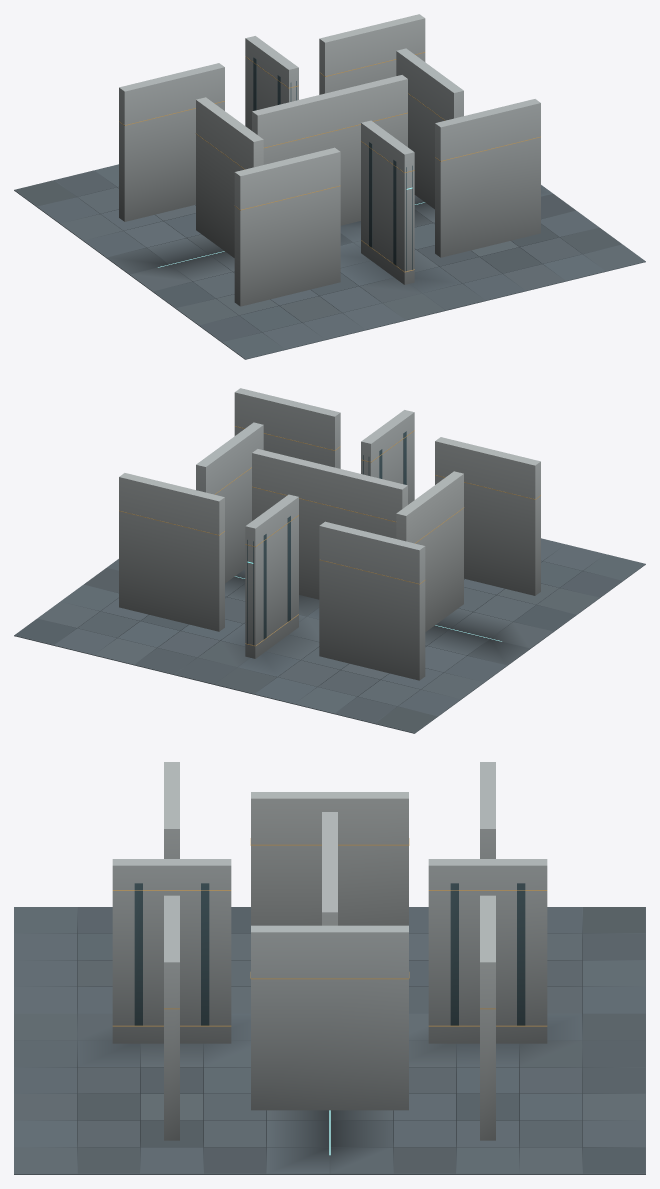
File: 01_world.glb
The picture shows the model from 3 angles, top to bottom: view 1: azimuth 30°, elevation 25°; view 2: azimuth 150°, elevation 25°; view 3: azimuth 270°, elevation 25°; orthographic projection. The views are drawn at different scales.
Parts seen in each view (by area): view 1: world_11_body_nocol, world_01_body_nocol, world_01_floor_noshadow_nocol, world_11_floor_noshadow_nocol, world_00_body_nocol, world_00_floor_noshadow_nocol, world_10_body_nocol, world_11_panel_noshadow_nocol, world_11_trim_noshadow_nocol; view 2: world_11_body_nocol, world_10_body_nocol, world_01_body_nocol, world_00_floor_noshadow_nocol, world_00_body_nocol, world_10_floor_noshadow_nocol, world_01_floor_noshadow_nocol, world_10_panel_noshadow_nocol; view 3: world_11_body_nocol, world_10_floor_noshadow_nocol, world_11_floor_noshadow_nocol, world_10_body_nocol, world_01_body_nocol, world_00_floor_noshadow_nocol, world_01_floor_noshadow_nocol, world_10_panel_noshadow_nocol, world_11_panel_noshadow_nocol, world_00_body_nocol, world_11_trim_noshadow_nocol.
Boxes of the visible parts, x1,y1,x2,y2 form: world_11_body_nocol: (252, 48, 540, 284); world_01_body_nocol: (196, 97, 340, 306); world_01_floor_noshadow_nocol: (130, 234, 445, 359); world_11_floor_noshadow_nocol: (340, 185, 645, 310); world_00_body_nocol: (119, 63, 224, 221); world_00_floor_noshadow_nocol: (14, 164, 223, 274); world_10_body_nocol: (245, 14, 425, 130); world_11_panel_noshadow_nocol: (369, 142, 412, 271); world_11_trim_noshadow_nocol: (264, 93, 540, 272); world_11_body_nocol: (196, 388, 414, 599); world_10_body_nocol: (119, 473, 298, 658); world_01_body_nocol: (396, 437, 540, 631); world_00_floor_noshadow_nocol: (214, 608, 529, 733); world_00_body_nocol: (319, 521, 425, 680); world_10_floor_noshadow_nocol: (14, 559, 319, 684); world_01_floor_noshadow_nocol: (436, 538, 645, 648); world_10_panel_noshadow_nocol: (247, 516, 290, 645); world_11_body_nocol: (112, 812, 408, 1140); world_10_floor_noshadow_nocol: (330, 1040, 645, 1174); world_11_floor_noshadow_nocol: (14, 1040, 329, 1174); world_10_body_nocol: (428, 859, 547, 1140); world_01_body_nocol: (164, 762, 408, 925); world_00_floor_noshadow_nocol: (409, 907, 645, 1040); world_01_floor_noshadow_nocol: (14, 907, 250, 1040); world_10_panel_noshadow_nocol: (450, 883, 525, 1025); world_11_panel_noshadow_nocol: (134, 883, 209, 1025); world_00_body_nocol: (480, 762, 495, 858); world_11_trim_noshadow_nocol: (112, 890, 409, 1026).
Bounding box in the file's own units: 80 × 25.02 × 80.
